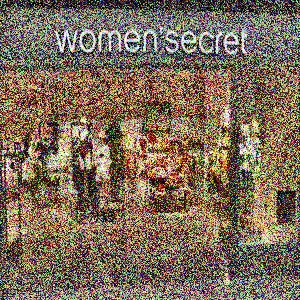women_secret: (239, 11, 282, 32)
